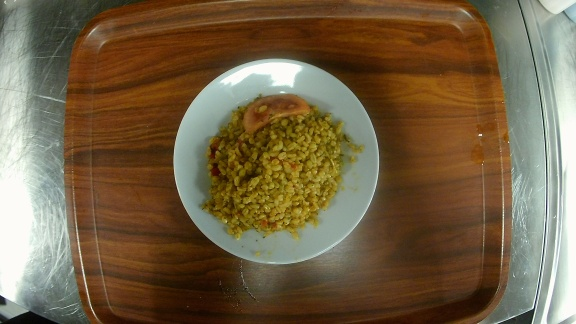bulgur: (173, 58, 380, 264)
